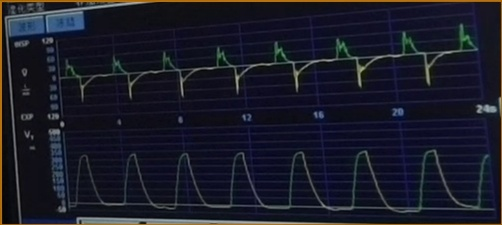Accumulation Flow: (62, 26, 475, 103)
Volume: (70, 145, 489, 216)
